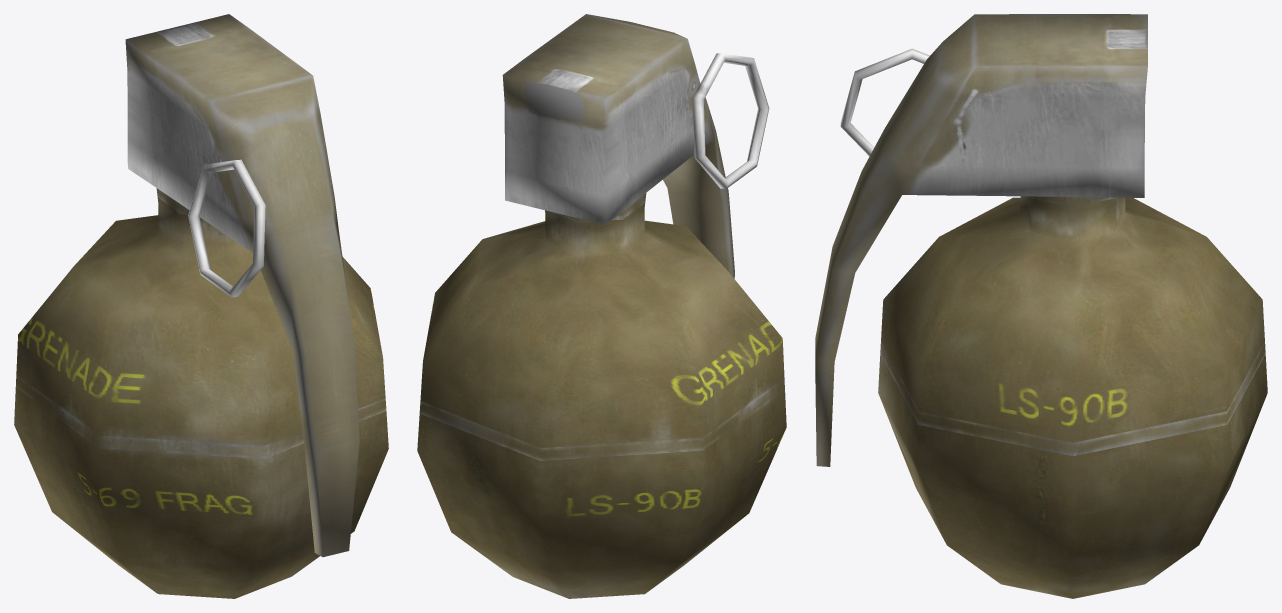
File: granade.dae
3 views of the same model, side by side, from view 1: azimuth 30°, elevation 25°; view 2: azimuth 150°, elevation 25°; view 3: azimuth 270°, elevation 25° (orthographic). The views are drawn at different scales.
Parts seen in each view (by area): view 1: M67_Grenade, Lever, Pin; view 2: M67_Grenade, Lever, Pin; view 3: M67_Grenade, Lever, Pin.
Part boxes in pixels (x1,y1,x2,y2): M67_Grenade: [14, 188, 388, 598]; Lever: [125, 14, 359, 557]; Pin: [188, 159, 265, 297]; M67_Grenade: [417, 193, 786, 598]; Lever: [502, 14, 734, 278]; Pin: [693, 53, 769, 188]; M67_Grenade: [878, 196, 1267, 598]; Lever: [815, 14, 1147, 466]; Pin: [840, 48, 929, 156].
Bounding box in the file's own units: 0.1888 × 0.2964 × 0.2249.
1 material, 1 textured.
